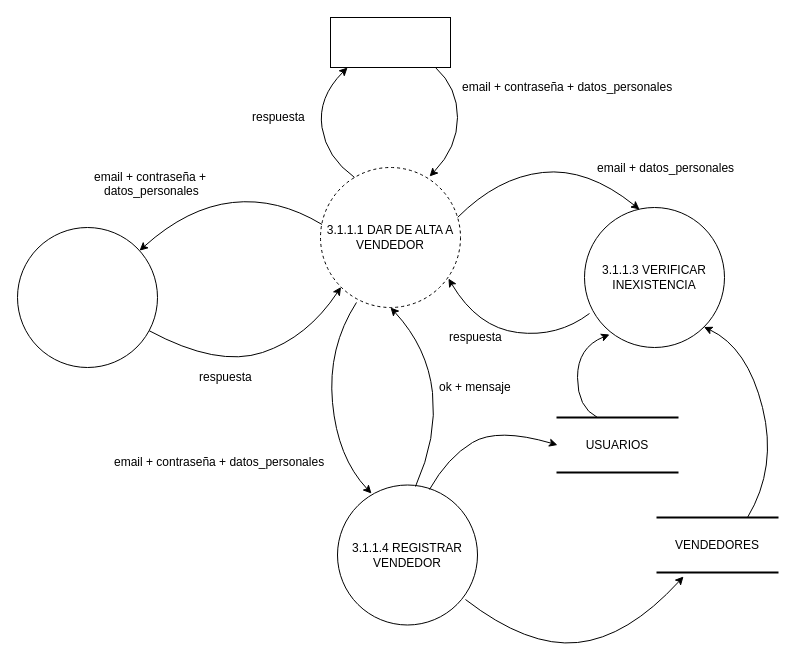
The diagram is 796 pixels wide and 661 high, and some of its shapes have lost their labels. The centre of each missing label's shape, as x and y in pixels:
"3.1.1.2 VALIDAR DATOS" goes at pixel 87 297.
"ADMINISTRADOR" goes at pixel 390 42.
